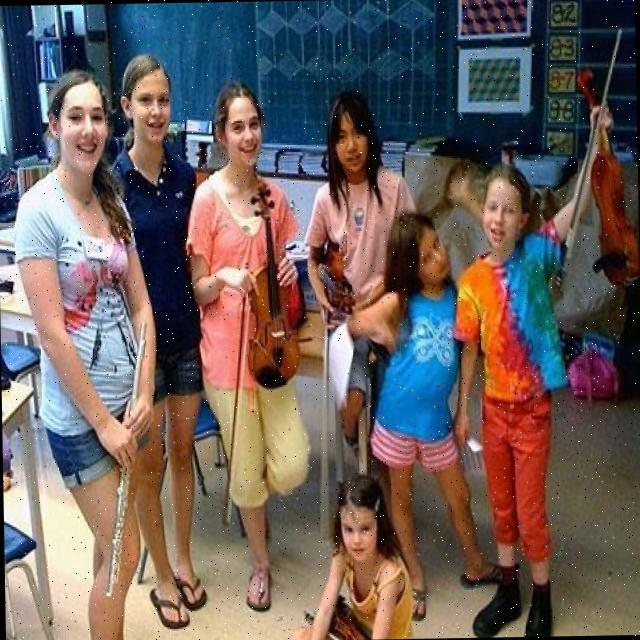violin: (573, 66, 638, 287), (246, 175, 305, 390)
